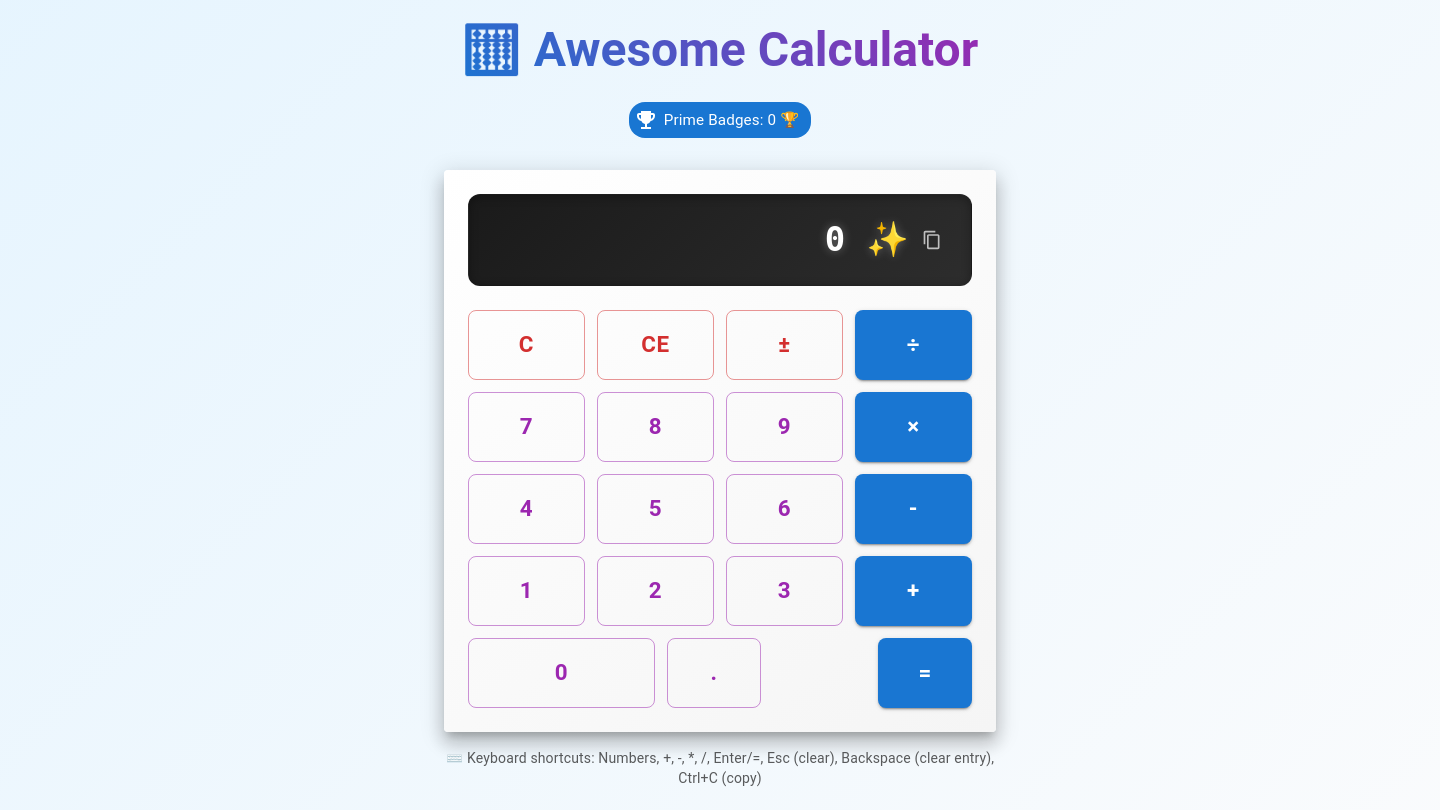
Test: Calculator › Clear Functions › C button clears all
Click the button "5": coordinates (656, 509) [597,474,714,544]
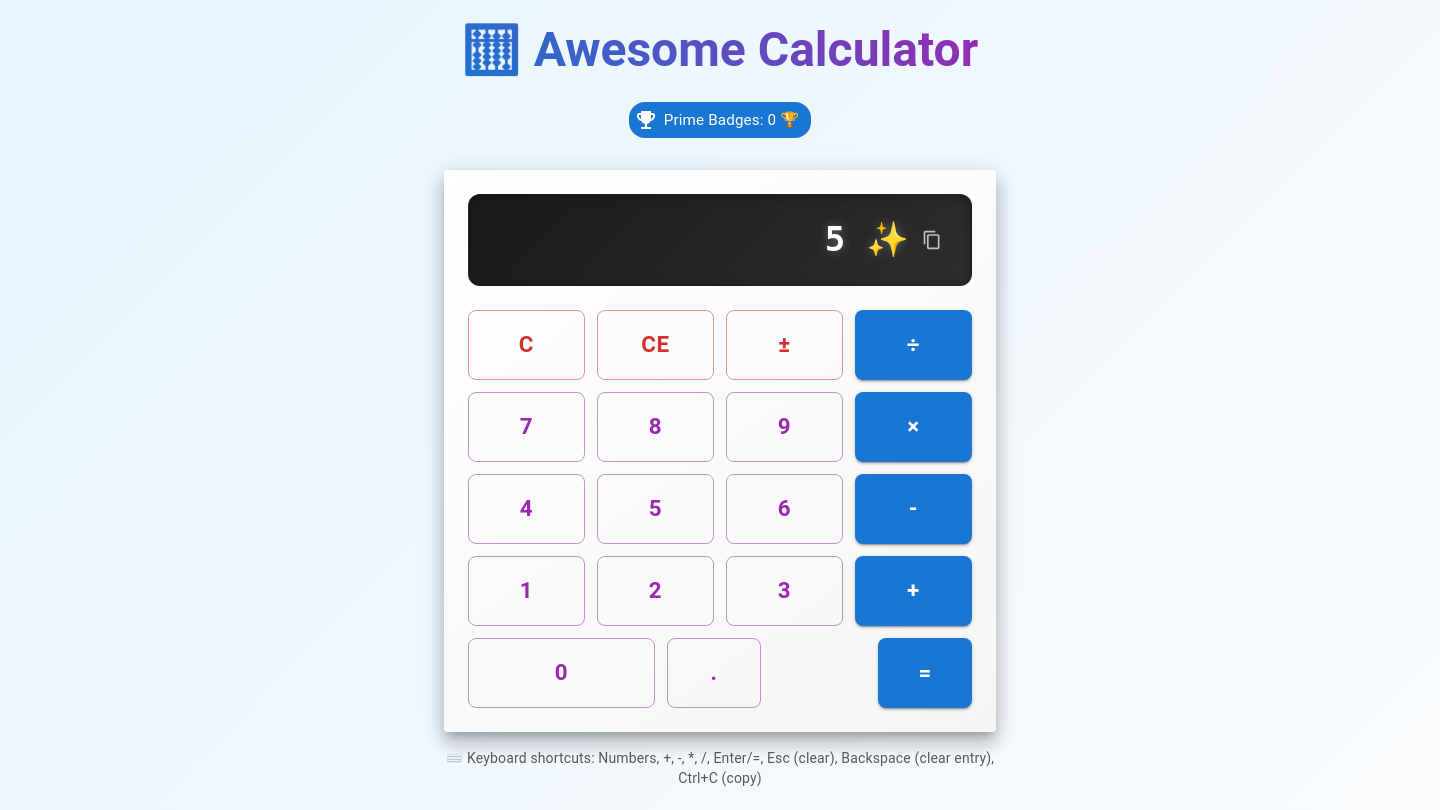
Click the button "+": coordinates (914, 591) [855,556,972,626]
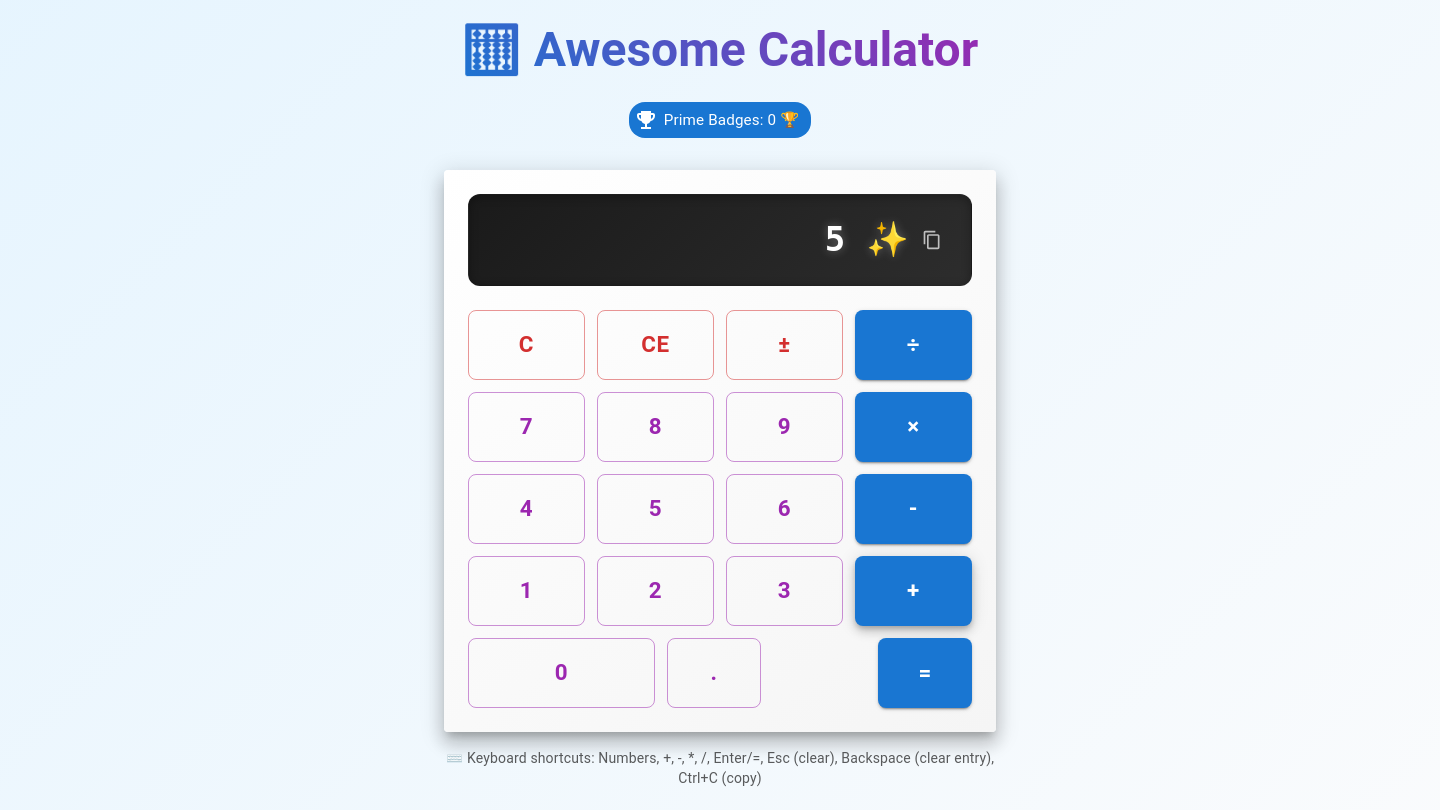
Click the button "3": coordinates (784, 591) [726,556,843,626]
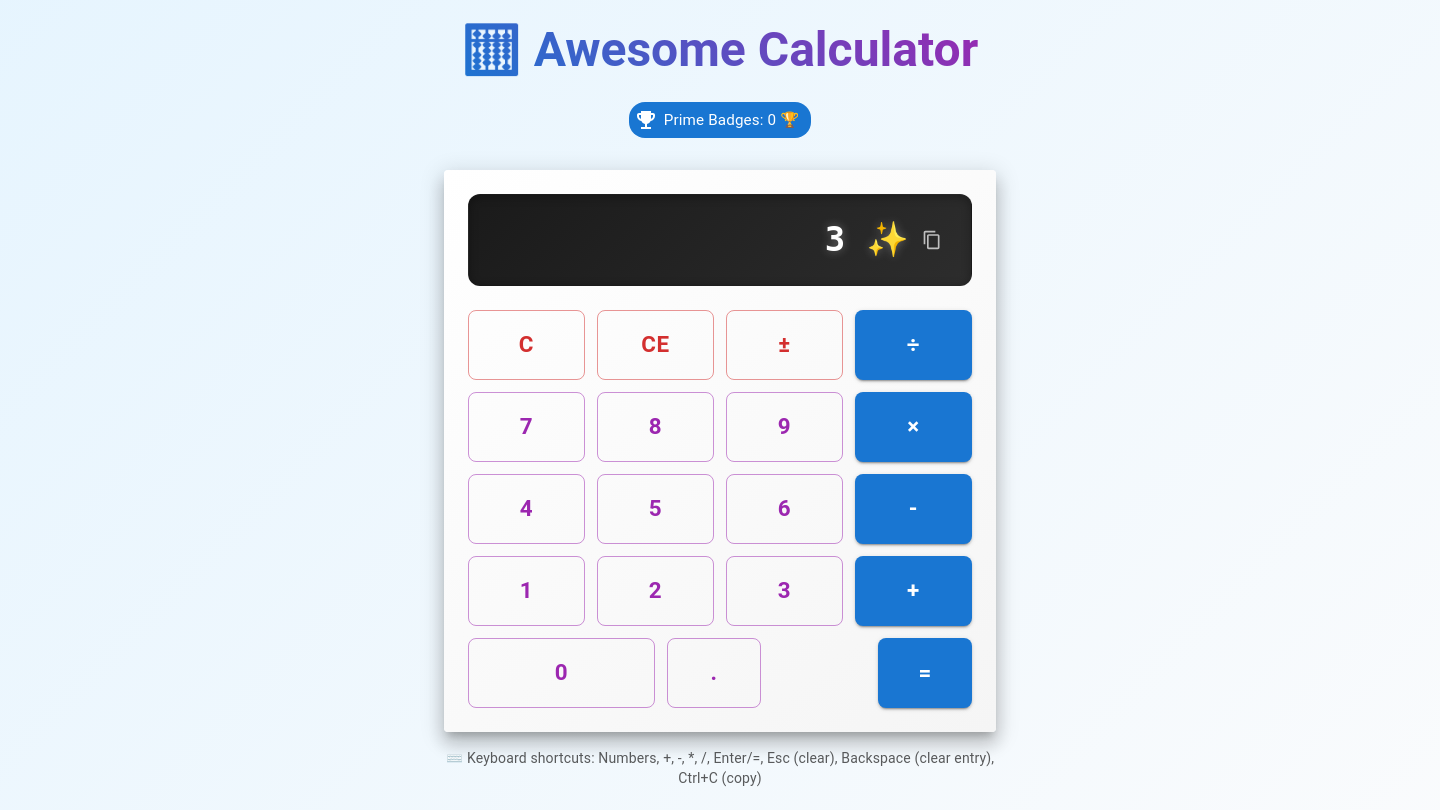
Click the button "C": coordinates (526, 345) [468,310,585,380]
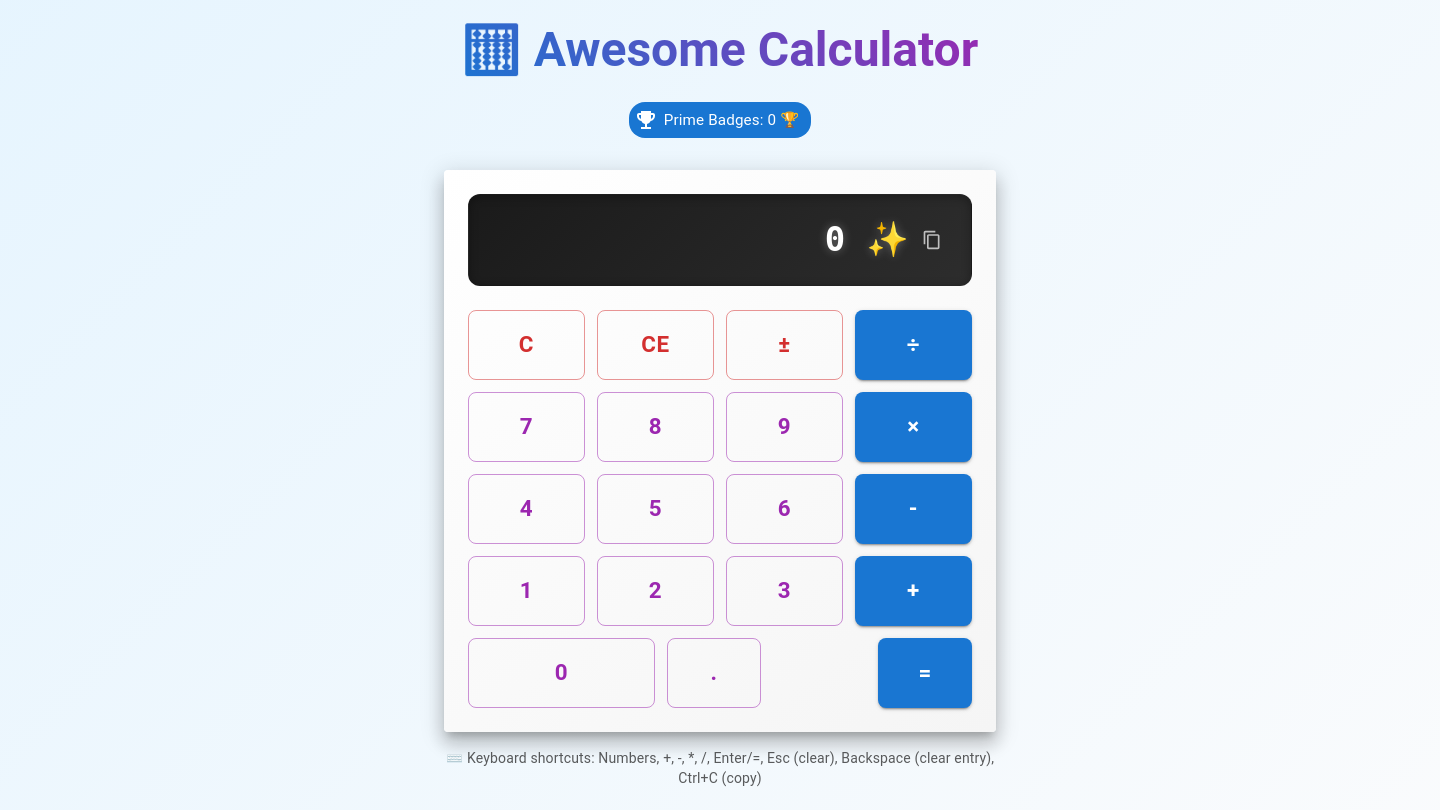
Expected: the text "0 ✨" is shown, [825,219,909,261]
